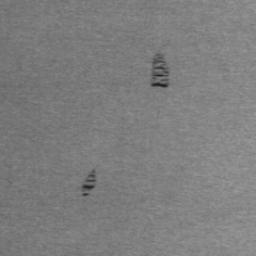Secondary rust skin: (149, 52, 171, 90)
